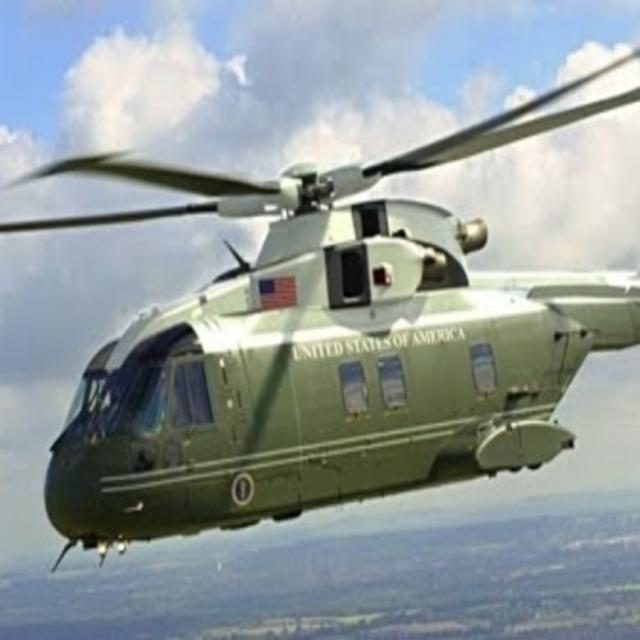helicopter: (10, 42, 639, 584)
